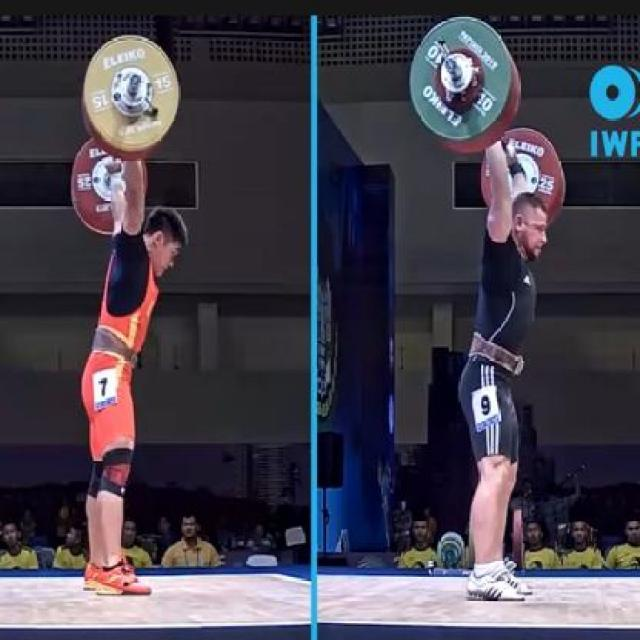barbell: (404, 13, 521, 154), (86, 30, 183, 155)
